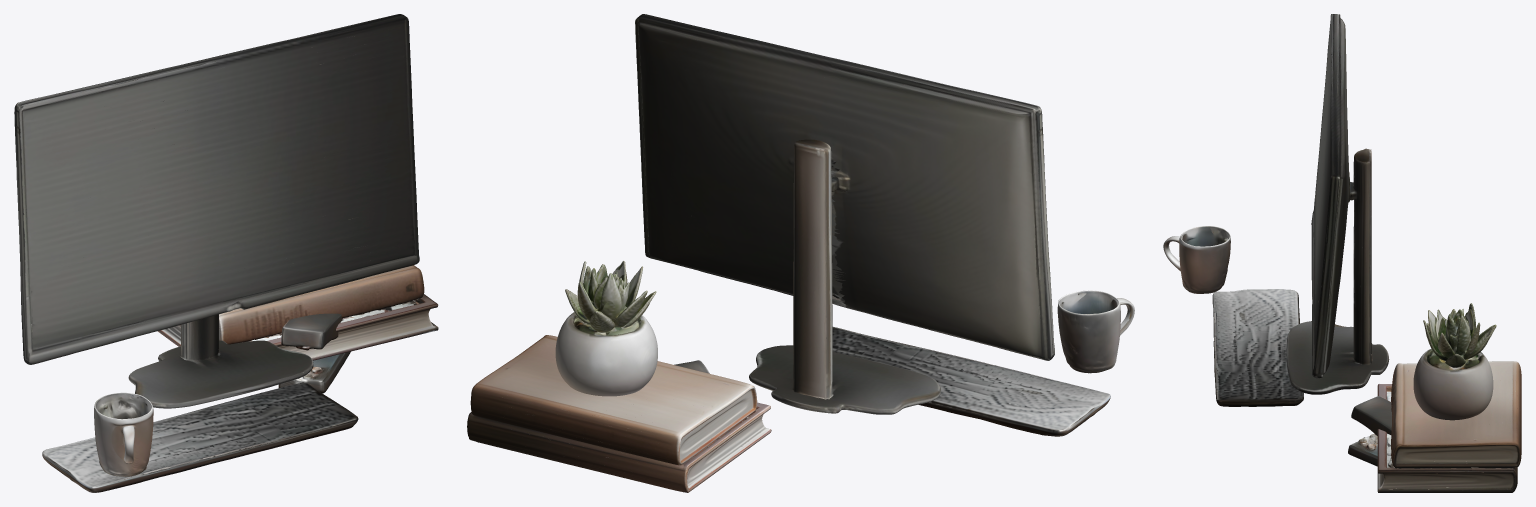
Rendered from midi_textured.glb.
3 renders of one model, left to right at view 1: azimuth 30°, elevation 25°; view 2: azimuth 150°, elevation 25°; view 3: azimuth 270°, elevation 25°, orthographic. The views are drawn at different scales.
Visible parts, largest first — view 1: geometry_0eacbb74ef35b, geometry_09657260def1b, geometry_0, geometry_0d395cd371514, geometry_0f8de687412d6; view 2: geometry_0eacbb74ef35b, geometry_0, geometry_09657260def1b, geometry_0244a72cc6e3a, geometry_0d395cd371514; view 3: geometry_0eacbb74ef35b, geometry_0, geometry_09657260def1b, geometry_0244a72cc6e3a, geometry_0d395cd371514, geometry_0f8de687412d6.
Part boxes in pixels (x1,y1,x2,y2): geometry_0eacbb74ef35b: (14, 14, 419, 408); geometry_09657260def1b: (42, 382, 358, 492); geometry_0: (158, 265, 438, 360); geometry_0d395cd371514: (94, 392, 153, 476); geometry_0f8de687412d6: (278, 313, 350, 393); geometry_0eacbb74ef35b: (635, 14, 1054, 414); geometry_0: (467, 335, 771, 492); geometry_09657260def1b: (832, 327, 1110, 436); geometry_0244a72cc6e3a: (555, 261, 657, 396); geometry_0d395cd371514: (1057, 290, 1134, 373); geometry_0eacbb74ef35b: (1286, 14, 1389, 394); geometry_0: (1377, 361, 1521, 492); geometry_09657260def1b: (1212, 289, 1303, 406); geometry_0244a72cc6e3a: (1413, 303, 1496, 420); geometry_0d395cd371514: (1163, 226, 1230, 293); geometry_0f8de687412d6: (1348, 396, 1391, 466).
Bounding box in the file's own units: 1.9 × 1.51 × 1.56.
6 materials, 6 textured.
